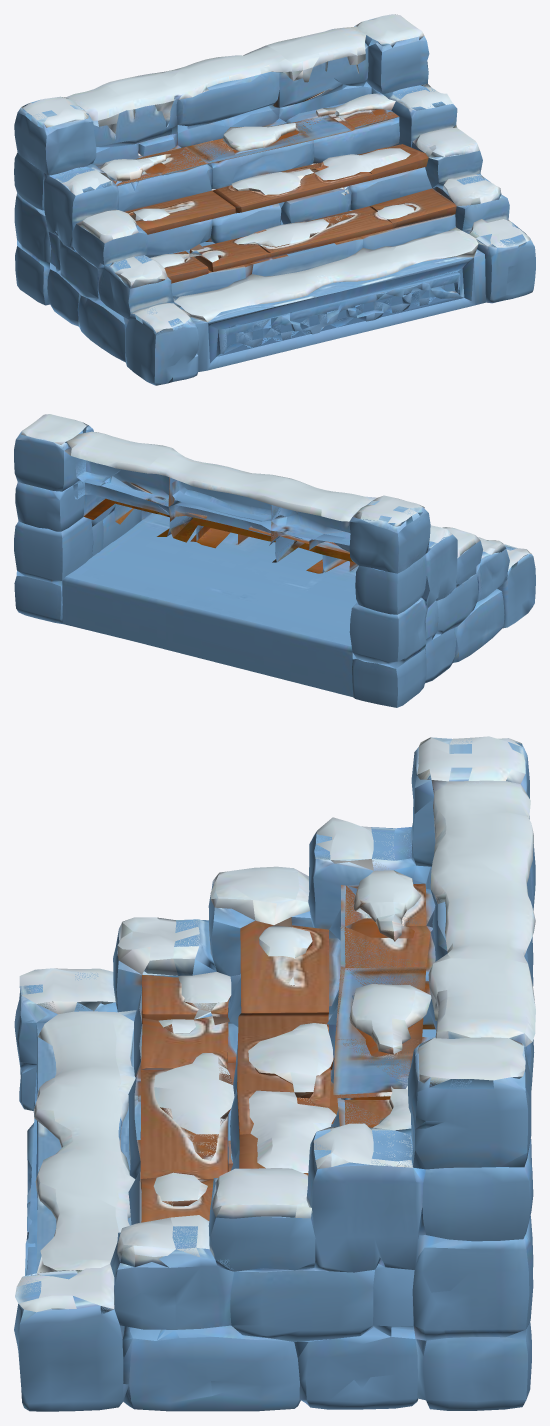
Rendered from tundra_grada.glb.
3 views of the same model, one above another, from view 1: azimuth 30°, elevation 25°; view 2: azimuth 150°, elevation 25°; view 3: azimuth 270°, elevation 25° (orthographic). The views are drawn at different scales.
Visible parts, largest first — view 1: tripo_node_cc58d9ed-3c61-4671-acc1-938a7b437165; view 2: tripo_node_cc58d9ed-3c61-4671-acc1-938a7b437165; view 3: tripo_node_cc58d9ed-3c61-4671-acc1-938a7b437165.
Boxes of the visible parts, x1,y1,x2,y2 form: tripo_node_cc58d9ed-3c61-4671-acc1-938a7b437165: [14, 14, 535, 385]; tripo_node_cc58d9ed-3c61-4671-acc1-938a7b437165: [14, 414, 535, 707]; tripo_node_cc58d9ed-3c61-4671-acc1-938a7b437165: [14, 736, 535, 1411].
Size of the model in its own units: 0.9995 by 0.4731 by 0.6337.
1 material, 1 textured.
